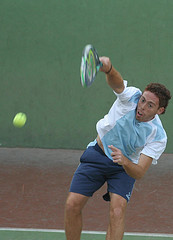tennis ball: (12, 112, 29, 129)
